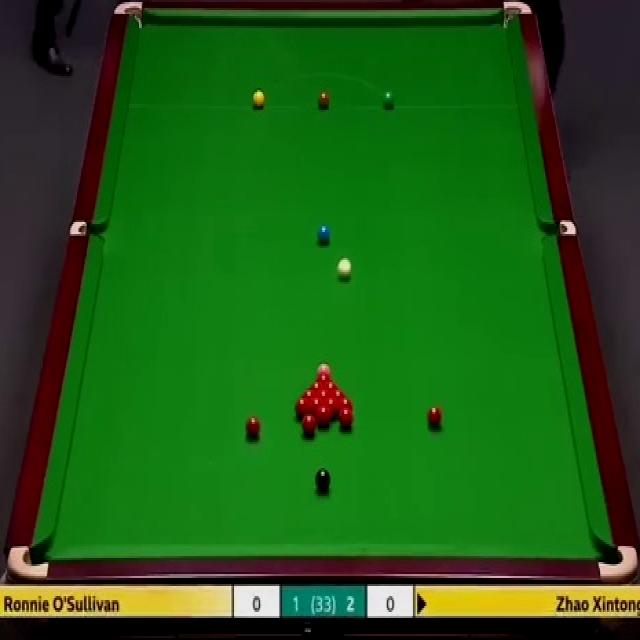black-ball: (314, 467, 331, 493)
blue-ball: (316, 223, 331, 245)
brown-ball: (316, 88, 331, 110)
green-ball: (380, 90, 395, 110)
pink-ball: (316, 362, 332, 377)
red-ball: (245, 416, 263, 441), (426, 407, 442, 432), (293, 396, 311, 416), (302, 413, 318, 435), (316, 406, 332, 426), (339, 408, 353, 430), (326, 398, 339, 417), (340, 397, 352, 415), (311, 397, 325, 412), (331, 389, 347, 398), (315, 374, 332, 382), (317, 390, 333, 398), (308, 382, 324, 390), (303, 389, 317, 398), (323, 382, 338, 389)
white-ball: (337, 254, 353, 282)
yellow-ball: (252, 88, 265, 109)
